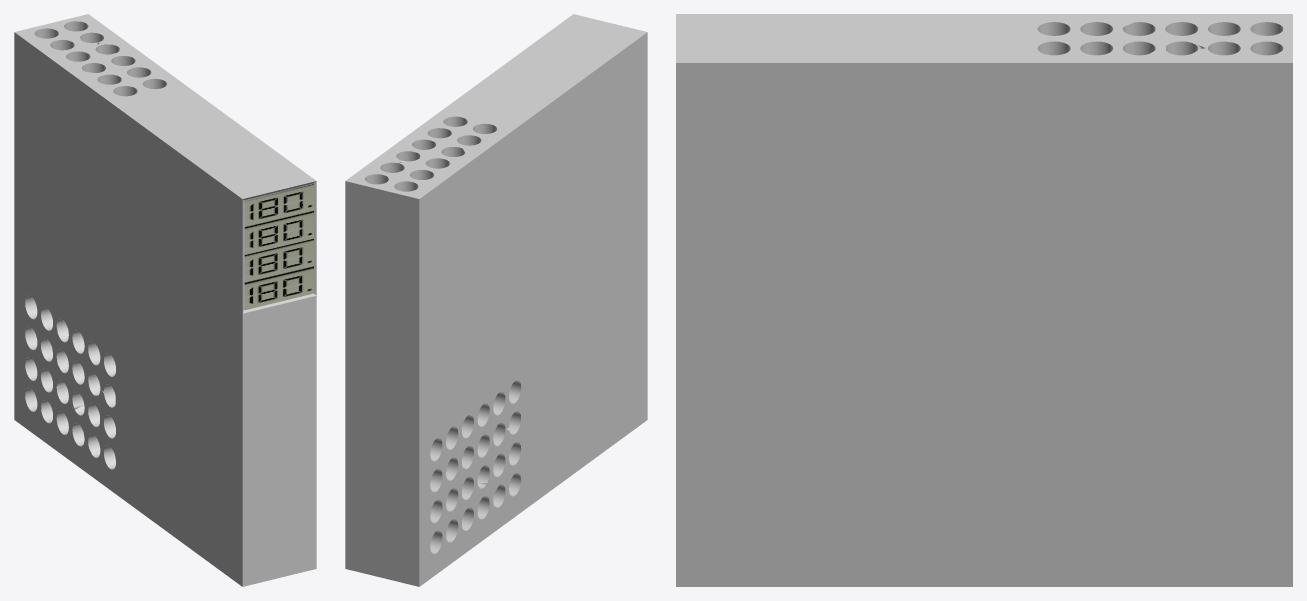
Rendered from 12_floor_osush.FBX.
The picture shows the model from 3 angles, left to right: view 1: azimuth 30°, elevation 25°; view 2: azimuth 150°, elevation 25°; view 3: azimuth 270°, elevation 25°; orthographic projection. The views are drawn at different scales.
Visible parts, largest first — view 1: Box001, Group001; view 2: Box001; view 3: Box001.
Part boxes in pixels (x1,y1,x2,y2): Box001: [14, 14, 316, 586]; Group001: [244, 184, 313, 309]; Box001: [345, 14, 647, 586]; Box001: [676, 14, 1292, 586].
Size of the model in its own units: 300 by 1500 by 1600.
Materials: 2 (1 with a texture image).
